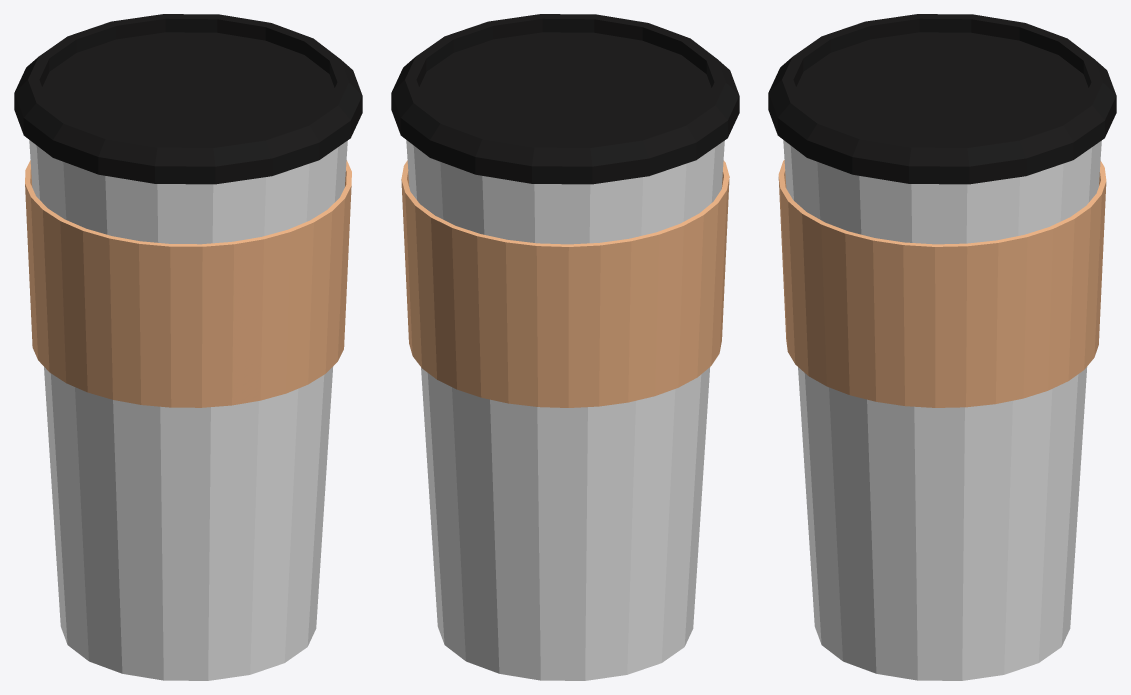
Rendered from coffee_1.glb.
3 renders of one model, left to right at view 1: azimuth 30°, elevation 25°; view 2: azimuth 150°, elevation 25°; view 3: azimuth 270°, elevation 25°, orthographic.
Parts seen in each view (by area): view 1: coffee_1; view 2: coffee_1; view 3: coffee_1.
Part boxes in pixels (<box>): coffee_1: <box>14,14,362,680</box>; coffee_1: <box>391,14,739,680</box>; coffee_1: <box>768,14,1116,680</box>.
Bounding box in the file's own units: 0.1568 × 0.275 × 0.1587.
